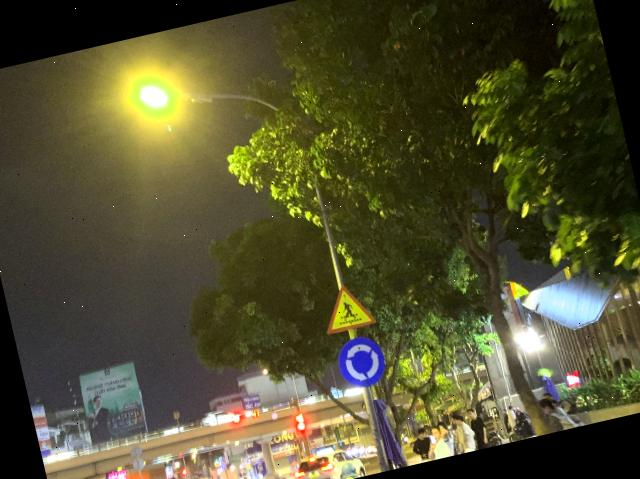duong-nguoi-di-bo-cat-ngang: (318, 277, 377, 335)
noi-giao-nhau-chay-theo-vong-xuyen: (332, 332, 390, 391)
